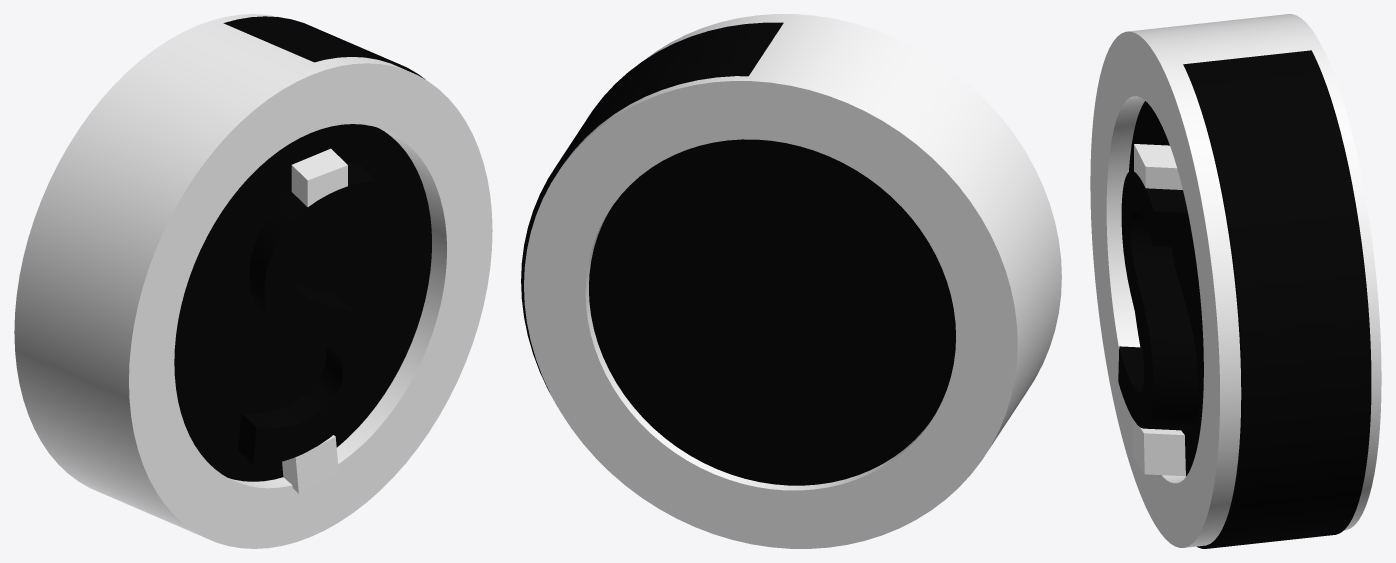
Rendered from coin.fbx.
The picture shows the model from 3 angles, left to right: view 1: azimuth 30°, elevation 25°; view 2: azimuth 150°, elevation 25°; view 3: azimuth 270°, elevation 25°; orthographic projection.
Visible parts, largest first — view 1: nodes[1], nodes[0], nodes[3], nodes[2], nodes[4]; view 2: nodes[1], nodes[0]; view 3: nodes[0], nodes[1], nodes[3], nodes[4], nodes[2].
Boxes of the visible parts, box(x1,y1,x2,y2) form: nodes[1]: box(14, 14, 492, 548); nodes[0]: box(174, 16, 431, 481); nodes[3]: box(238, 164, 377, 465); nodes[2]: box(291, 148, 347, 206); nodes[4]: box(282, 435, 338, 493); nodes[1]: box(524, 14, 1061, 548); nodes[0]: box(521, 22, 955, 485); nodes[0]: box(1129, 50, 1371, 548); nodes[1]: box(1090, 14, 1381, 547); nodes[3]: box(1118, 170, 1198, 430); nodes[4]: box(1132, 418, 1185, 476); nodes[2]: box(1134, 144, 1182, 189).
Bounding box in the file's own units: 0.316 × 0.3014 × 0.1687.
5 materials, 2 textured.
